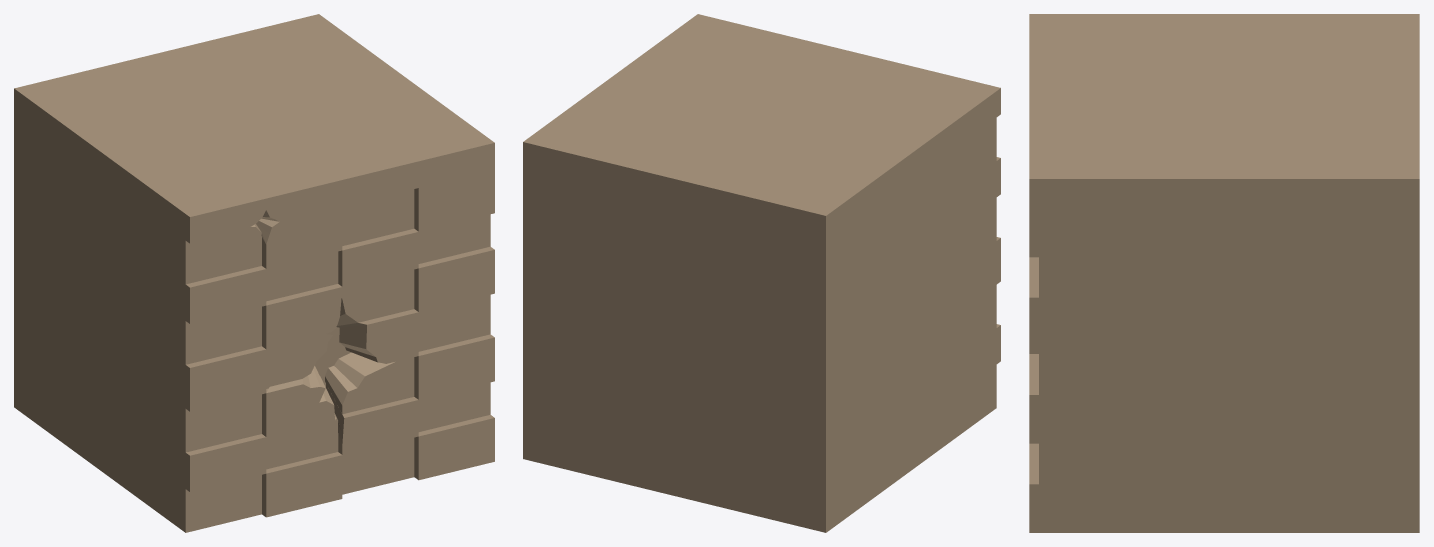
File: outerWall_broken2.fbx
3 views of the same model, side by side, from view 1: azimuth 30°, elevation 25°; view 2: azimuth 150°, elevation 25°; view 3: azimuth 270°, elevation 25° (orthographic). The views are drawn at different scales.
Parts seen in each view (by area): view 1: outerWall_broken2; view 2: outerWall_broken2; view 3: outerWall_broken2.
Boxes of the visible parts, <box> form: outerWall_broken2: <box>14,14,494,532</box>; outerWall_broken2: <box>523,14,1000,532</box>; outerWall_broken2: <box>1029,14,1419,532</box>.
Bounding box in the file's own units: 400 × 400 × 400.
